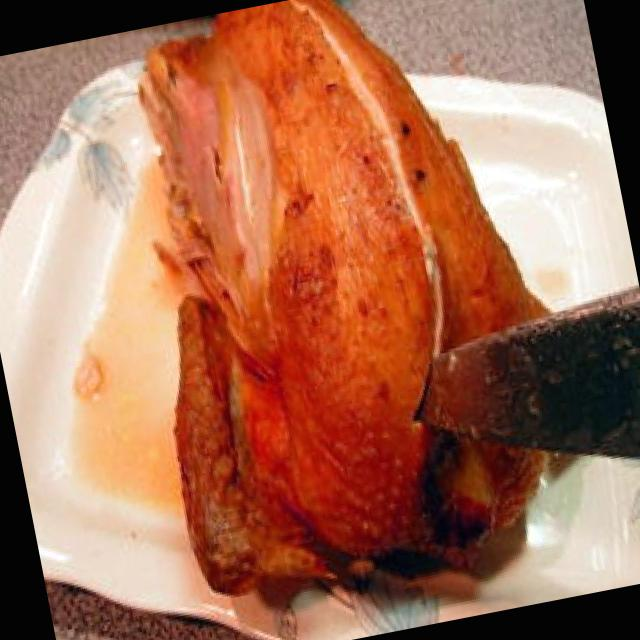Chicken: (89, 0, 485, 610)
